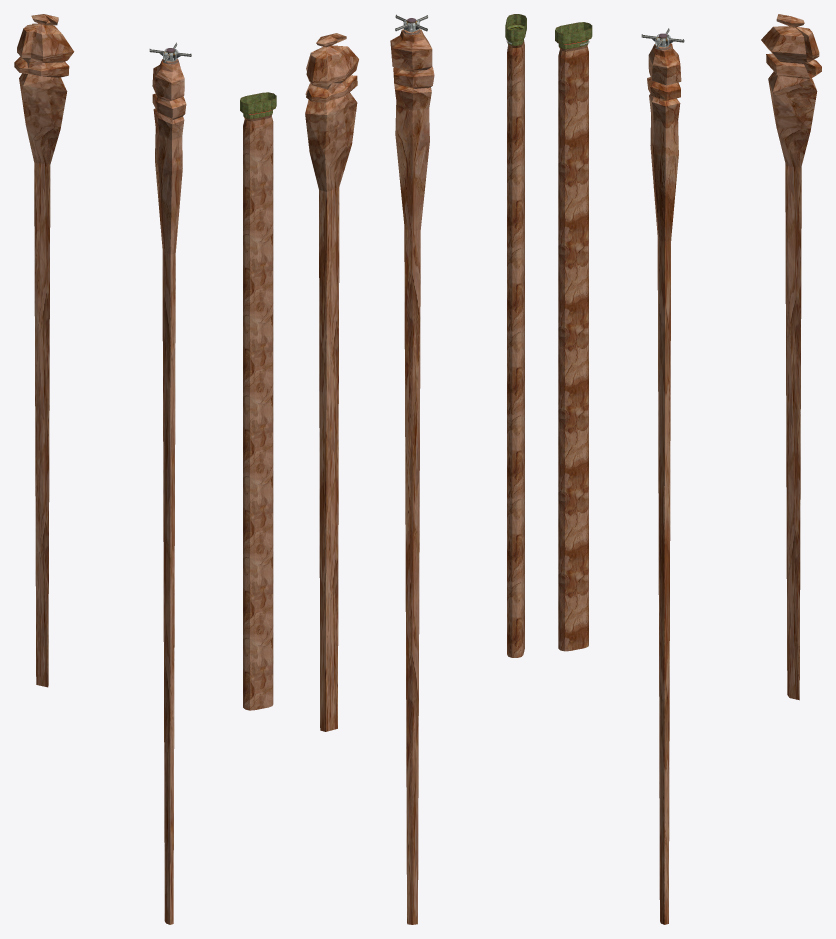
3 renders of one model, left to right at view 1: azimuth 90°, elevation 25°; view 2: azimuth 150°, elevation 25°; view 3: azimuth 270°, elevation 25°, orthographic. The views are drawn at different scales.
Parts seen in each view (by area): view 1: Object_2; view 2: Object_2; view 3: Object_2.
Part boxes in pixels (x1,y1,x2,y2): Object_2: [14, 14, 276, 924]; Object_2: [305, 14, 526, 924]; Object_2: [555, 14, 821, 924].
Size of the model in its own units: 5782 by 49443 by 13061.
